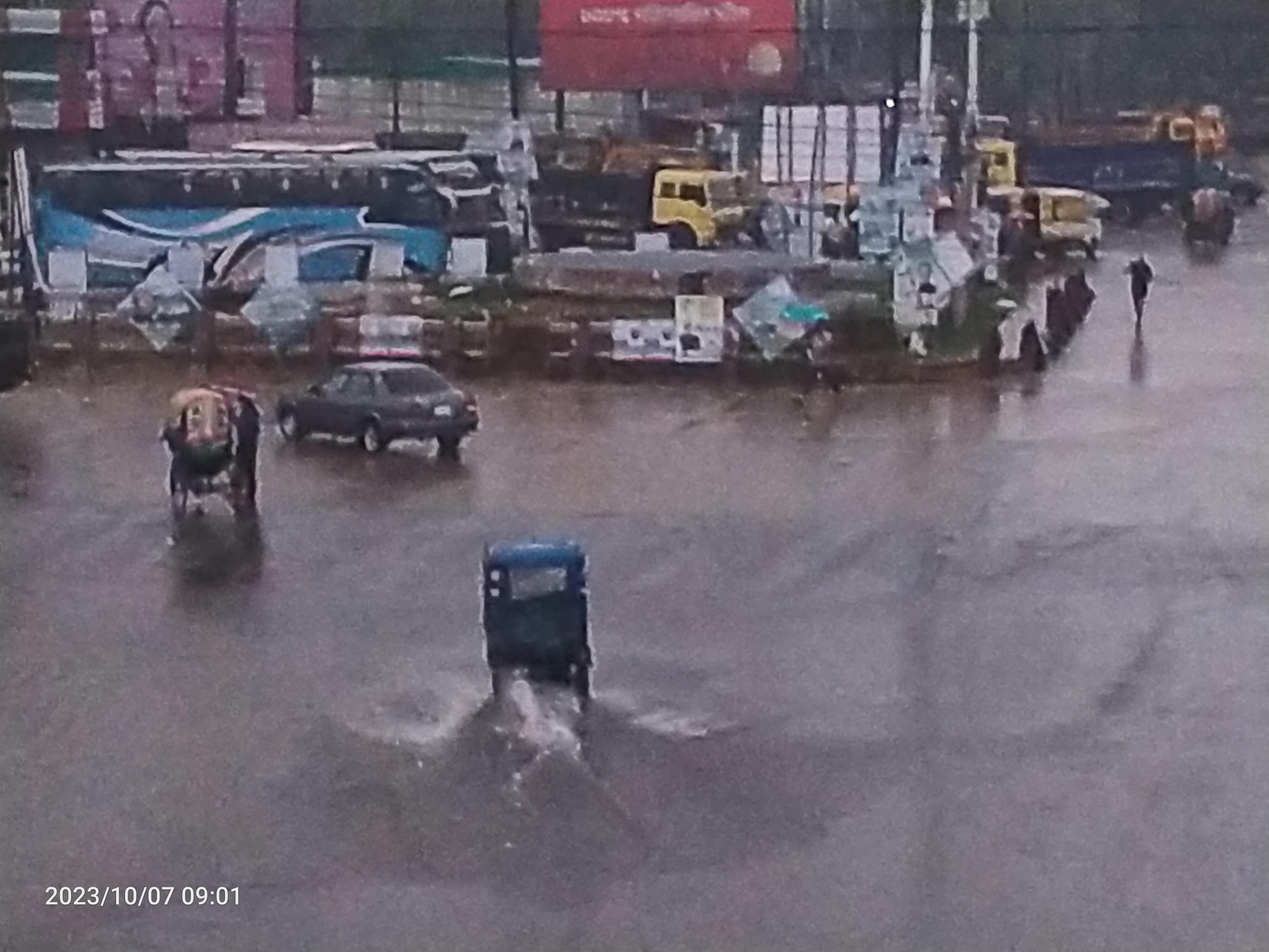Bus: (0, 116, 550, 296)
Car: (440, 505, 651, 725), (254, 349, 494, 483), (145, 366, 296, 563)
Truck: (514, 160, 775, 270), (1005, 101, 1243, 202)
